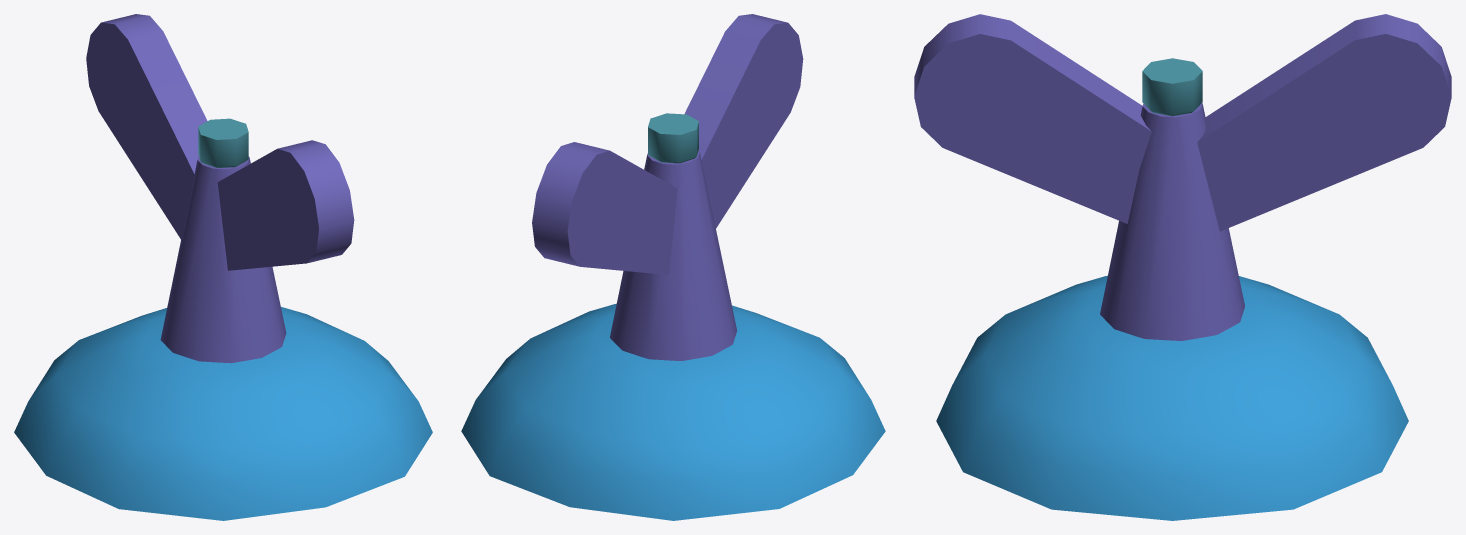
File: S5_BattleShip_Top_01_Lod3.fbx
3 views of the same model, side by side, from view 1: azimuth 30°, elevation 25°; view 2: azimuth 150°, elevation 25°; view 3: azimuth 270°, elevation 25° (orthographic). The views are drawn at different scales.
Parts seen in each view (by area): view 1: S5_BattleShip_Top_01_Lod3; view 2: S5_BattleShip_Top_01_Lod3; view 3: S5_BattleShip_Top_01_Lod3.
Part boxes in pixels (x1,y1,x2,y2): S5_BattleShip_Top_01_Lod3: (14, 14, 432, 520); S5_BattleShip_Top_01_Lod3: (461, 14, 885, 520); S5_BattleShip_Top_01_Lod3: (914, 14, 1451, 520).
Bounding box in the file's own units: 860 × 799 × 978.
